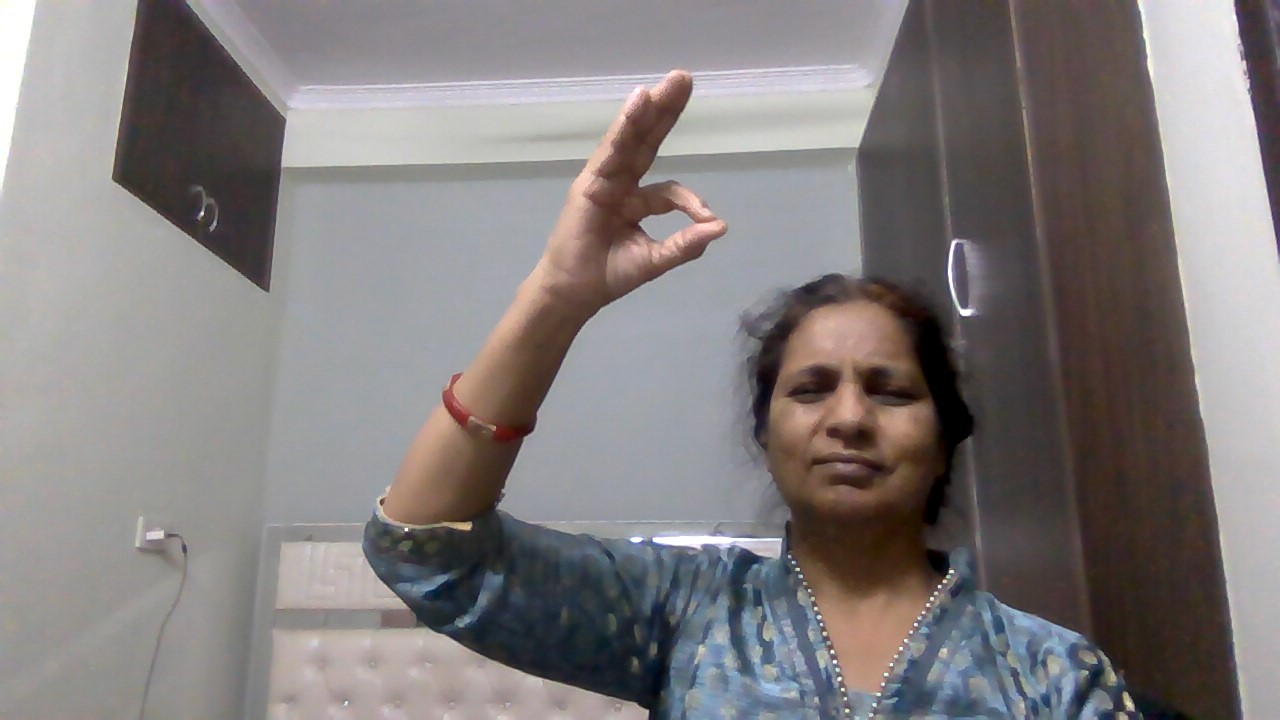Copy: (532, 60, 737, 345)
